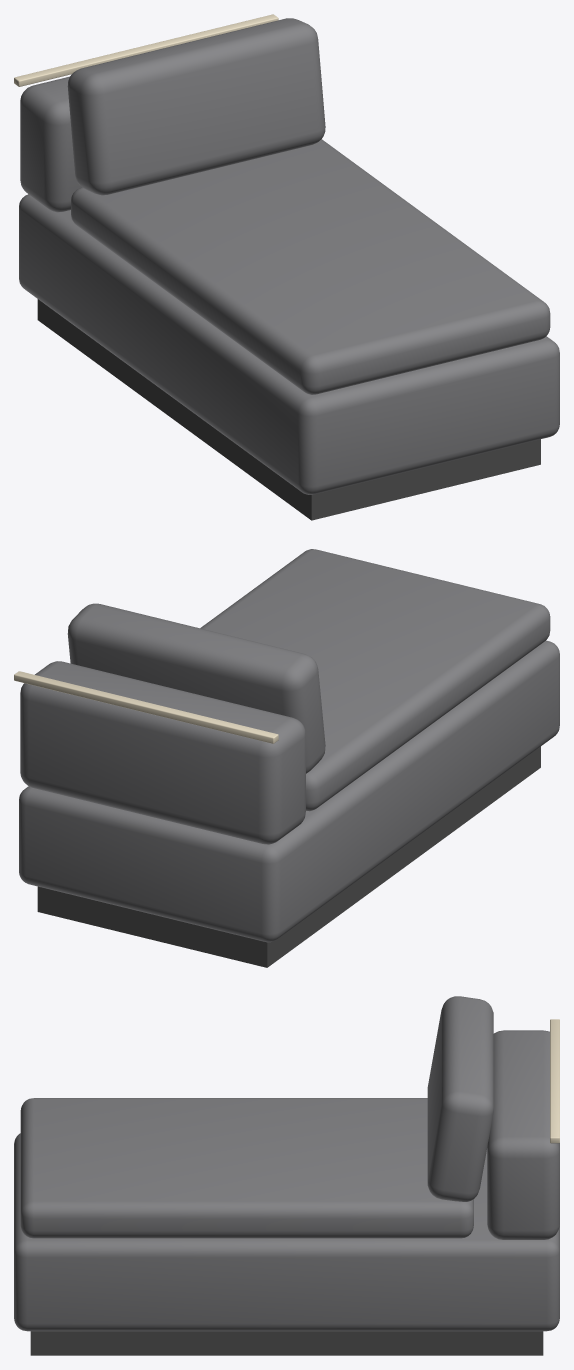
File: it_chaise.glb
3 views of the same model, one above another, from view 1: azimuth 30°, elevation 25°; view 2: azimuth 150°, elevation 25°; view 3: azimuth 270°, elevation 25° (orthographic). The views are drawn at different scales.
Parts seen in each view (by area): view 1: seat, body, cush, plinth, back, backtrim; view 2: body, seat, back, cush, plinth, backtrim; view 3: seat, body, back, plinth, cush, backtrim.
Part boxes in pixels (x1,y1,x2,y2): seat: [71, 139, 550, 394]; body: [19, 194, 559, 494]; cush: [67, 18, 325, 195]; plinth: [37, 299, 540, 520]; back: [20, 76, 82, 212]; backtrim: [14, 14, 278, 86]; body: [19, 640, 559, 942]; seat: [200, 549, 550, 811]; back: [20, 661, 305, 844]; cush: [67, 603, 325, 773]; plinth: [37, 746, 540, 967]; backtrim: [14, 671, 278, 743]; seat: [20, 1098, 473, 1238]; body: [14, 1133, 559, 1331]; back: [487, 1030, 559, 1239]; plinth: [30, 1331, 543, 1355]; cush: [427, 996, 493, 1201]; backtrim: [550, 1019, 559, 1143].
Size of the model in its own units: 0.85 by 0.8625 by 1.65.
